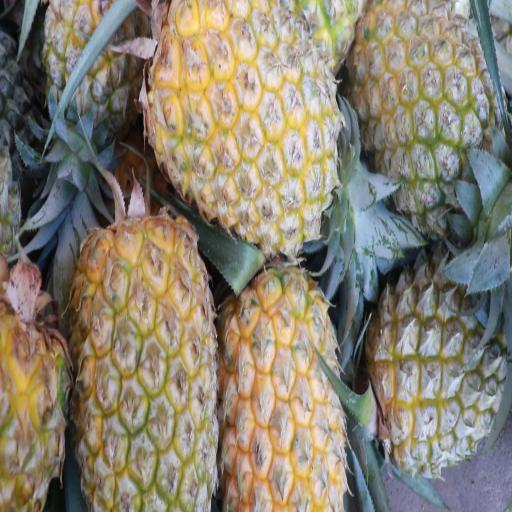------------------------------: (369, 247, 512, 461), (43, 0, 142, 192)
Pineapple - v8 v1: (158, 0, 339, 245), (83, 223, 217, 512), (216, 261, 345, 512), (352, 0, 492, 191)
